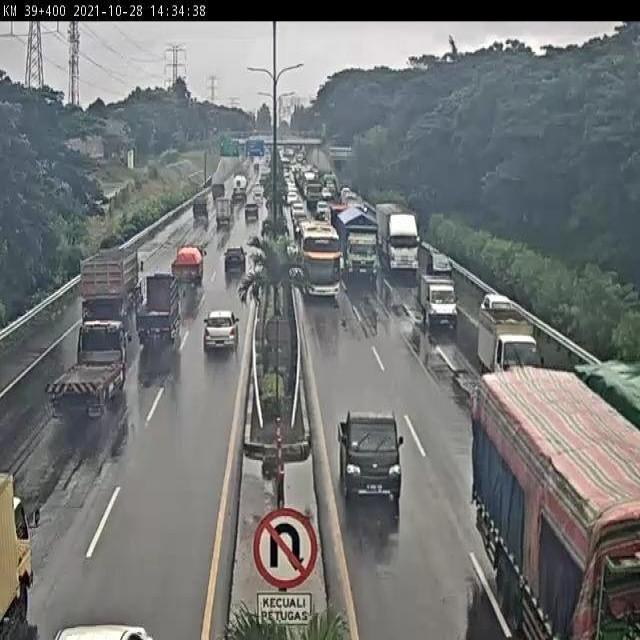big bus: (300, 219, 343, 296)
big truck: (478, 377, 640, 640), (74, 248, 142, 335), (375, 197, 421, 272), (336, 202, 380, 278)
car: (337, 413, 400, 499), (420, 272, 457, 328), (203, 311, 242, 352), (423, 242, 452, 274), (221, 249, 248, 280), (480, 292, 516, 312), (191, 197, 208, 220), (243, 203, 260, 220)
small truck: (47, 319, 127, 421), (478, 307, 537, 369), (141, 276, 180, 343), (173, 246, 205, 286), (214, 199, 233, 229)
